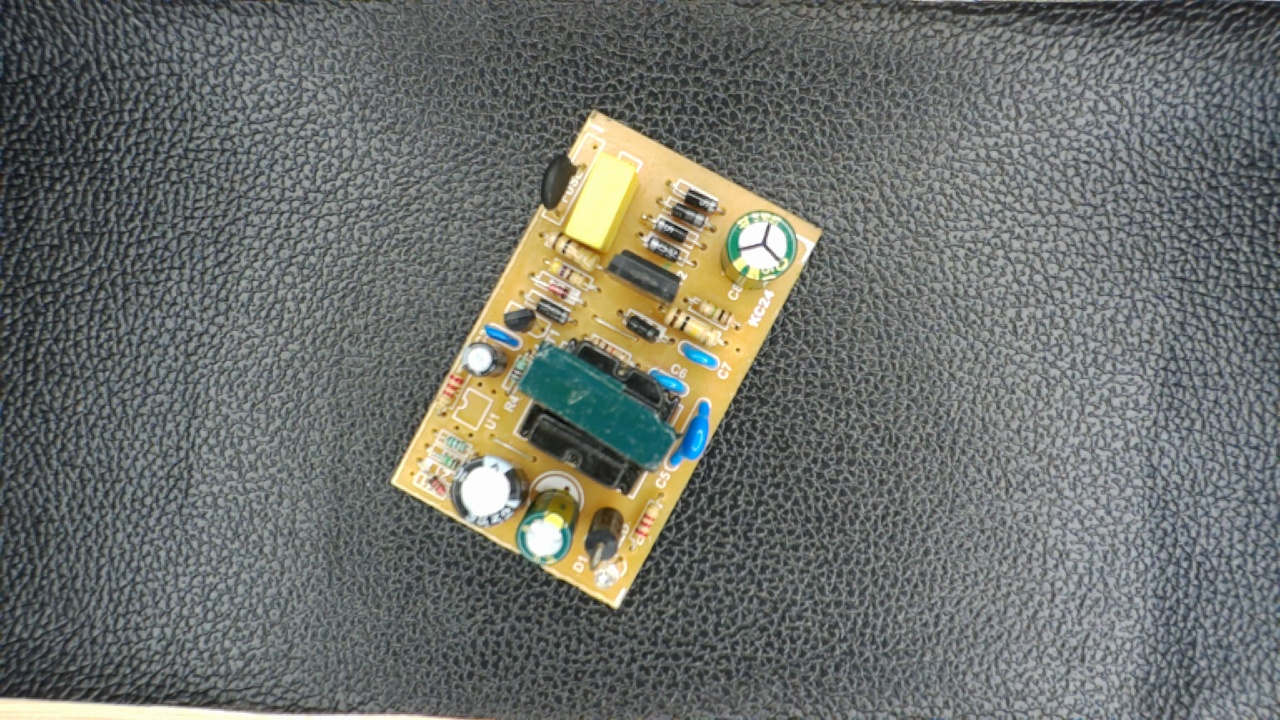fuse: (536, 149, 585, 221)
hv_capacitor: (719, 207, 800, 293)
mov: (669, 393, 717, 473)
